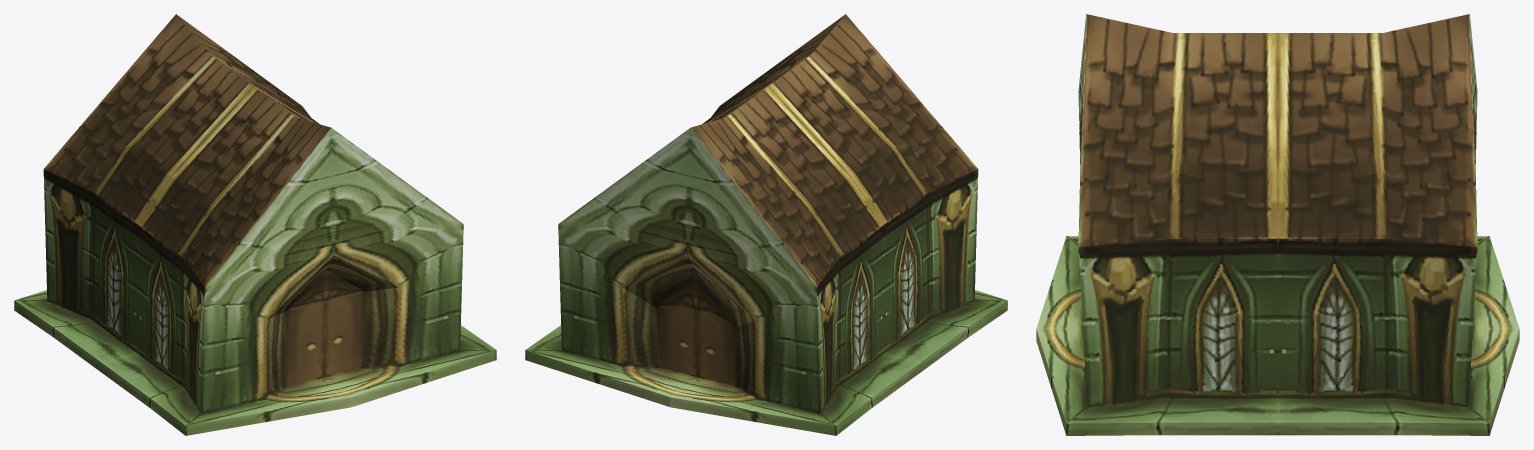
File: shuyuan.FBX
3 views of the same model, side by side, from view 1: azimuth 30°, elevation 25°; view 2: azimuth 150°, elevation 25°; view 3: azimuth 270°, elevation 25° (orthographic). The views are drawn at different scales.
Parts seen in each view (by area): view 1: jiantaA06; view 2: jiantaA06; view 3: jiantaA06.
Boxes of the visible parts, <box> form: jiantaA06: <box>14,14,496,435</box>; jiantaA06: <box>525,14,1007,435</box>; jiantaA06: <box>1036,14,1519,435</box>.
Size of the model in its own units: 23.68 by 25.8 by 19.28.
Materials: 1 (1 with a texture image).
